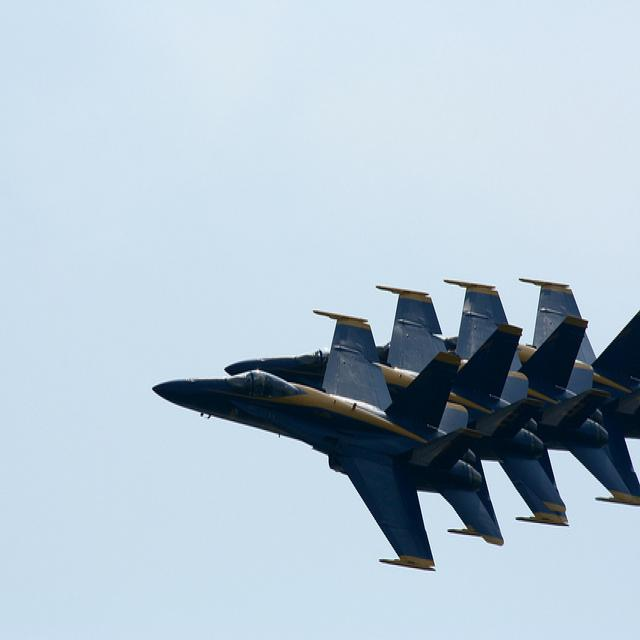airplane: (152, 309, 491, 571), (225, 287, 548, 458), (444, 280, 609, 528), (512, 276, 640, 502)
